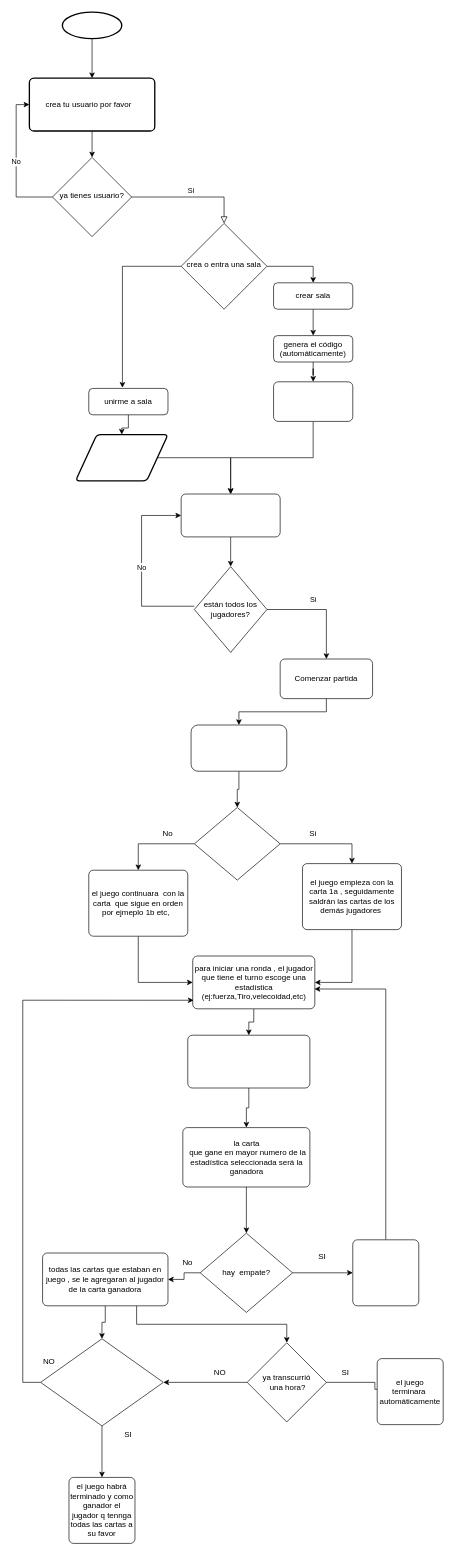
Image size: 455x1555. Some labels were removed from this diagram. The shapes that lost their labels are listed below. From the top down, each one's centre as x and y in pixels, then its label:
At point 91,25: "Inicio".
At point 313,401: "invitar a tus amigos con el código de sala".
At point 121,457: "ingresa el código de la sala (6 caracteres)".
At point 230,515: "espera a que tus amigos (jugadores) entren a la sala(1/4)".
At point 238,747: "Repartir cartas".
At point 237,843: "Esta la carta 1a en juego?".
At point 248,1061: "se comparan las estadísticas de las cartas".
At point 385,1272: "se dejan las cartas sobre la área de juego y comenzara otra ronda".
At point 101,1382: "hay algún jugador con todas las cartas en su poder?".
